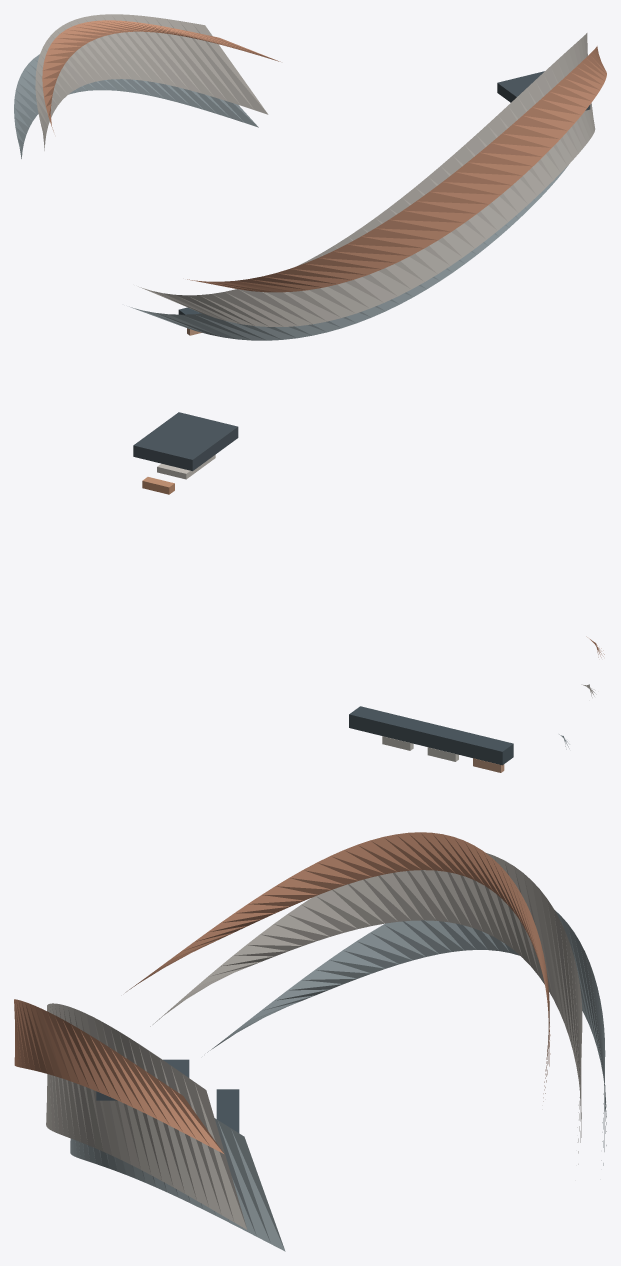
Rendered from webpage-sculpture.glb.
The picture shows the model from 3 angles, top to bottom: view 1: azimuth 30°, elevation 25°; view 2: azimuth 150°, elevation 25°; view 3: azimuth 270°, elevation 25°; orthographic projection. The views are drawn at different scales.
Visible parts, largest first — view 1: CONTENT__ivory_page, INTERACTION__copper_ribbon, STRUCTURE__metal_page, WEBSITE_UI__hero; view 2: WEBSITE_UI__navigation_shell, WEBSITE_UI__hero; view 3: CONTENT__ivory_page, INTERACTION__copper_ribbon, STRUCTURE__metal_page, WEBSITE_UI__navigation_shell.
Boxes of the visible parts, bbox=[...] form: CONTENT__ivory_page: bbox=[35, 14, 595, 326]; INTERACTION__copper_ribbon: bbox=[42, 20, 606, 292]; STRUCTURE__metal_page: bbox=[14, 54, 568, 340]; WEBSITE_UI__hero: bbox=[497, 71, 590, 110]; WEBSITE_UI__navigation_shell: bbox=[349, 706, 513, 765]; WEBSITE_UI__hero: bbox=[133, 412, 238, 471]; CONTENT__ivory_page: bbox=[46, 853, 582, 1229]; INTERACTION__copper_ribbon: bbox=[14, 832, 550, 1153]; STRUCTURE__metal_page: bbox=[70, 910, 606, 1251]; WEBSITE_UI__navigation_shell: bbox=[216, 1089, 239, 1132].
Size of the model in its own units: 5.19 by 2.34 by 4.66.
